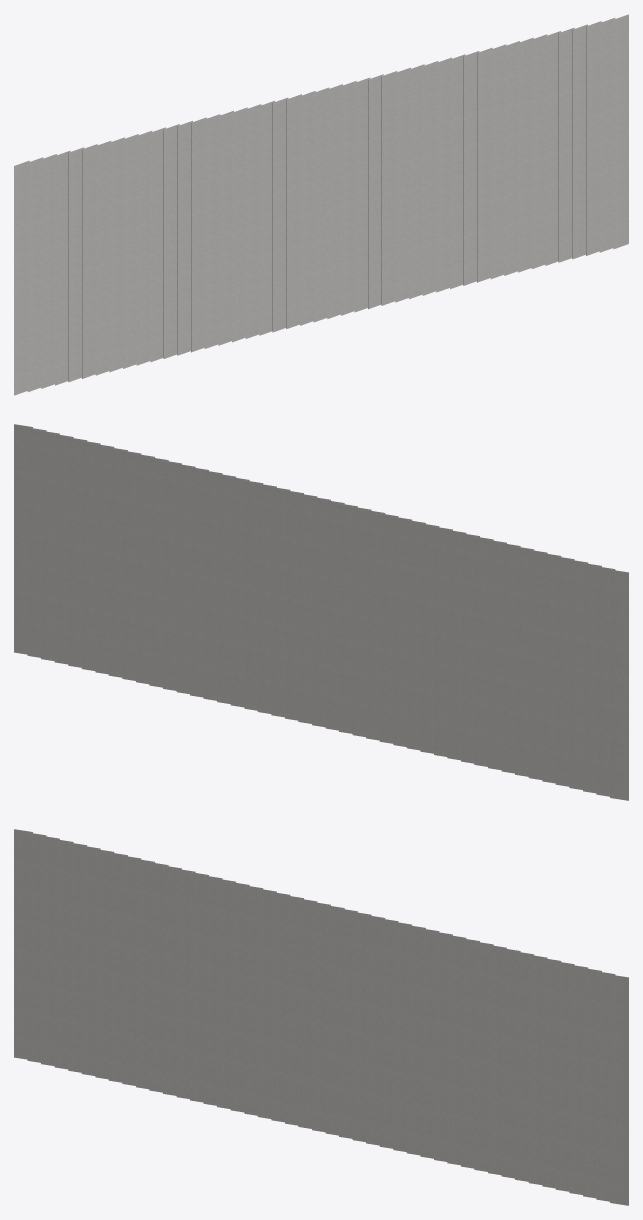
The model's file is blinds.fbx.
3 renders of one model, top to bottom at view 1: azimuth 30°, elevation 25°; view 2: azimuth 150°, elevation 25°; view 3: azimuth 330°, elevation 25°, orthographic.
Parts seen in each view (by area): view 1: blinds, blinds22, blinds25, blinds04, blinds35, blinds01, blinds09, blinds14, blinds30, blinds33, blinds38, blinds06 (+33 smaller); view 2: blinds44, blinds07, blinds38, blinds05, blinds27, blinds29, blinds40, blinds03, blinds18, blinds16, blinds14, blinds21 (+33 smaller); view 3: blinds, blinds37, blinds06, blinds04, blinds15, blinds17, blinds39, blinds26, blinds41, blinds28, blinds23, blinds30 (+33 smaller).
Boxes of the visible parts, x1,y1,x2,y2 form: blinds: (613,14,628,249); blinds22: (313,87,329,322); blinds25: (272,97,288,332); blinds04: (558,27,574,262); blinds35: (136,130,152,365); blinds01: (599,18,615,252); blinds09: (490,44,506,279); blinds14: (422,61,438,295); blinds30: (204,114,220,348); blinds33: (163,124,179,358); blinds38: (95,141,111,375); blinds06: (531,34,547,268); blinds44: (610,569,628,800); blinds07: (108,447,127,677); blinds38: (528,549,547,779); blinds05: (81,440,100,670); blinds27: (379,513,398,743); blinds29: (406,520,425,750); blinds40: (555,556,574,786); blinds03: (54,434,73,664); blinds18: (257,483,276,713); blinds16: (230,477,249,707); blinds14: (203,470,222,700); blinds21: (298,493,317,723); blinds: (610,974,628,1205); blinds37: (108,852,127,1082); blinds06: (528,954,547,1184); blinds04: (555,961,574,1191); blinds15: (406,925,425,1155); blinds17: (379,918,398,1148); blinds39: (81,845,100,1075); blinds26: (257,888,276,1118); blinds41: (54,839,73,1069); blinds28: (230,882,249,1112); blinds23: (298,898,317,1128); blinds30: (203,875,222,1105).
Size of the model in its own units: 457 by 163 by 2.37.
